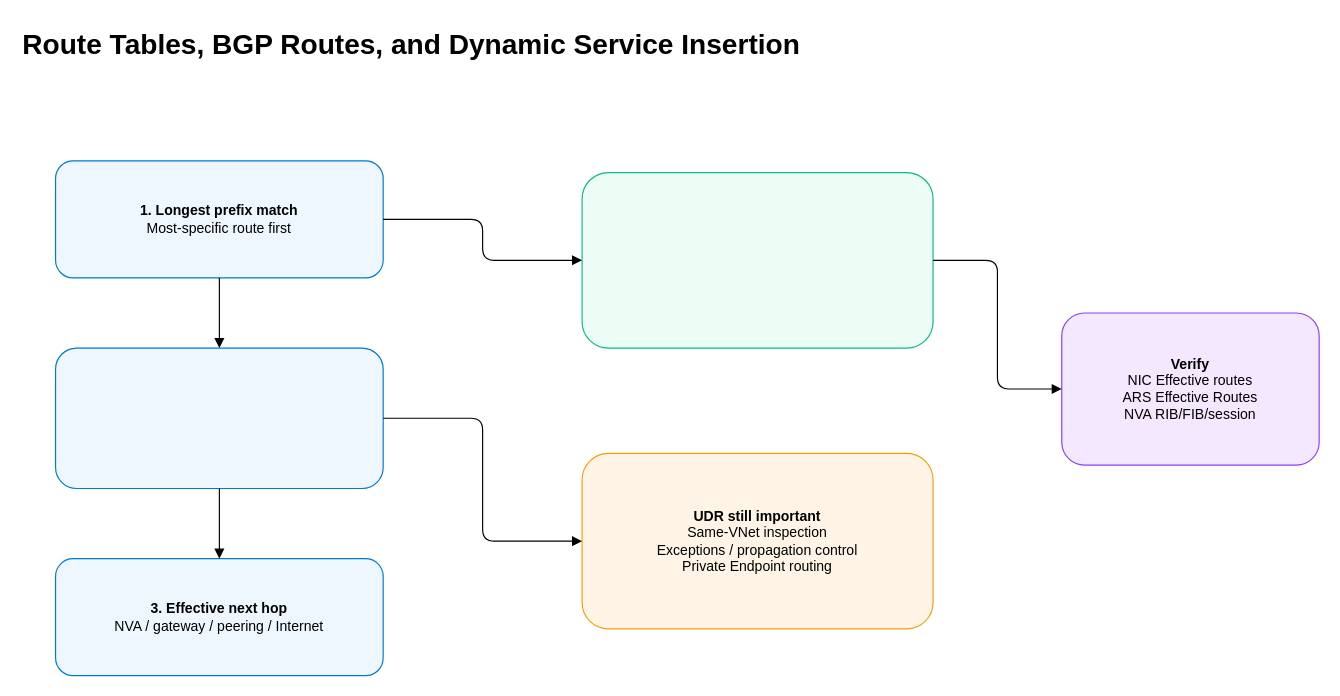
Image size: 1340x696. Some labels were removed from this diagram. Here are the shapes that lost their labels. From the top down, the box of each, then its label:
(581, 171, 933, 348): ARS+BGP sweet spot Cross-VNet inspection Dynamic 0/0 Branch prefixes
(54, 347, 383, 488): 2. Route source rules System / UDR / BGP precedence Same-VNet caveat
